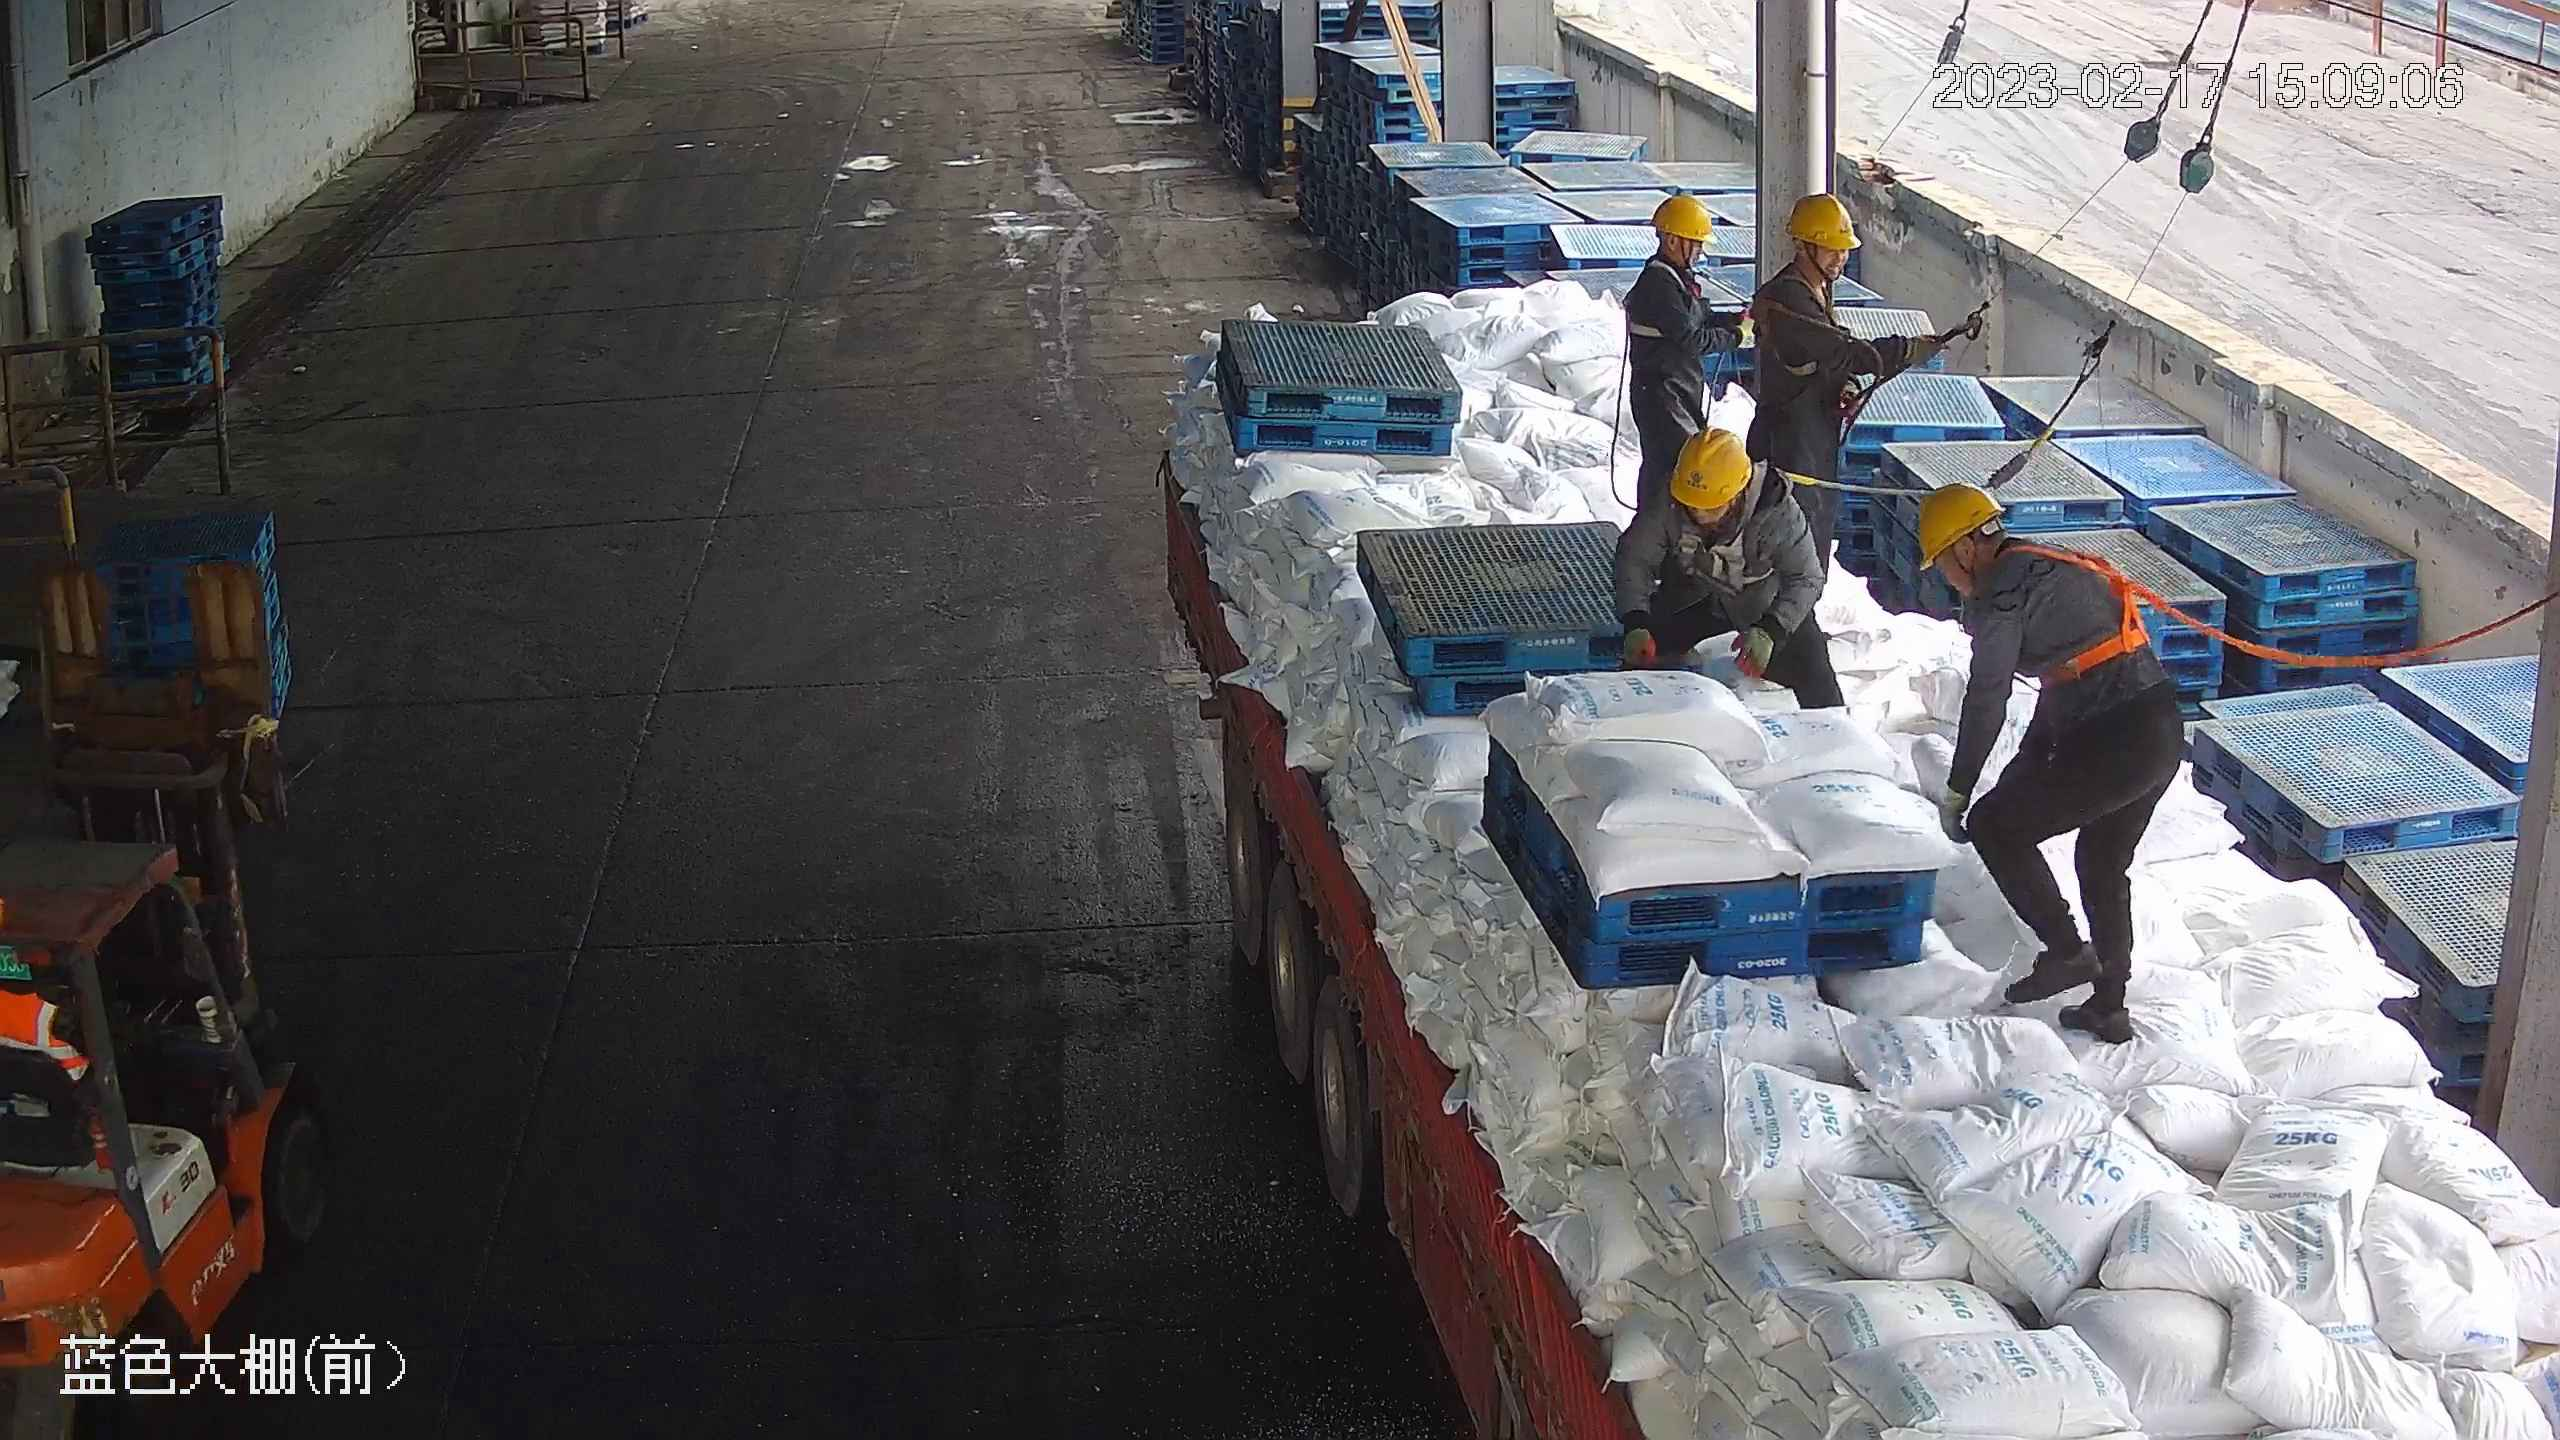belt: (2009, 539, 2175, 681), (1664, 455, 1816, 583), (1763, 271, 1860, 374), (1627, 256, 1715, 350)
head: (1913, 478, 2092, 668), (1754, 196, 1891, 370), (1654, 425, 1804, 571), (1625, 196, 1751, 342)
helmet: (1920, 481, 2008, 575), (1671, 428, 1753, 509), (1783, 192, 1865, 254), (1651, 193, 1717, 250)
people: (1912, 480, 2185, 1046), (1747, 191, 1948, 618), (1615, 426, 1848, 712), (1625, 195, 1754, 514)
truck: (1154, 352, 2560, 1440)
